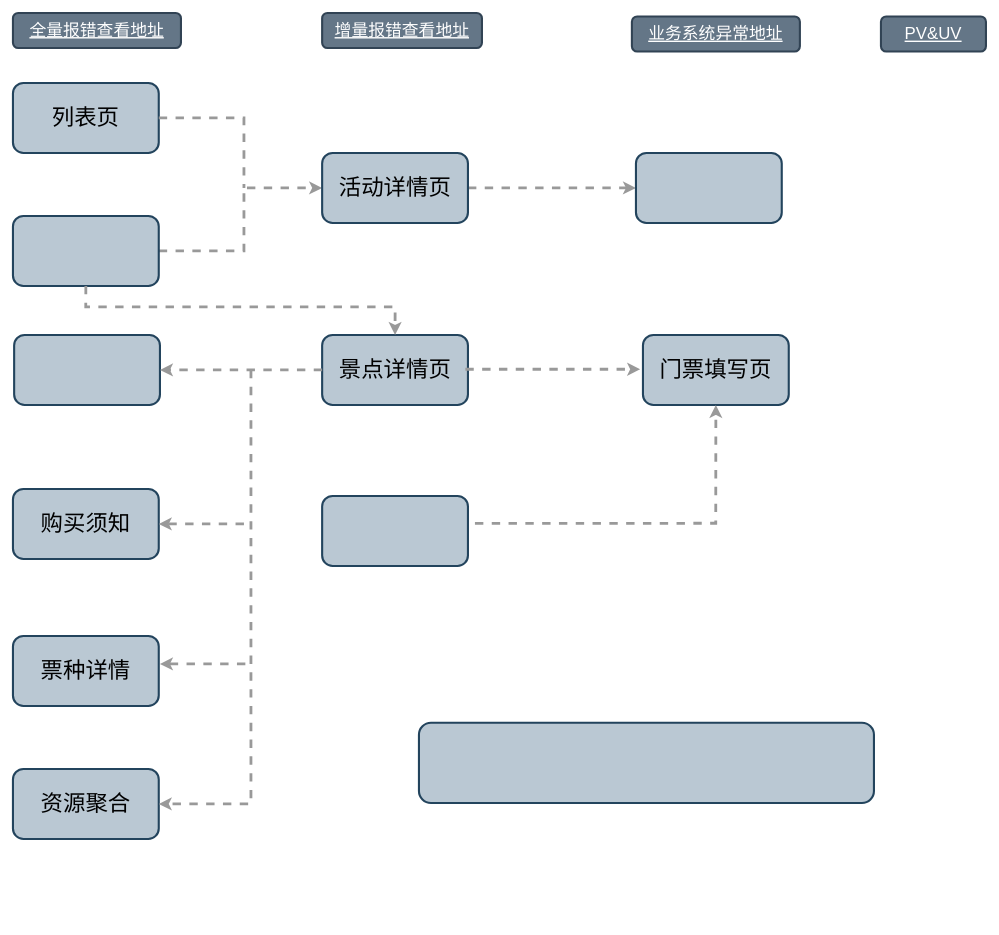
Image size: 999x935. Some labels were removed from this diagram. The centre of each missing label's shape, as x and y in pixels:
"SKU" belongs at pixel 87 370.
"web站点监控" belongs at pixel 646 762.
"弹屏页" belongs at pixel 85 251.
"活动填写页" belongs at pixel 708 188.
"资源详情页" belongs at pixel 395 531.
